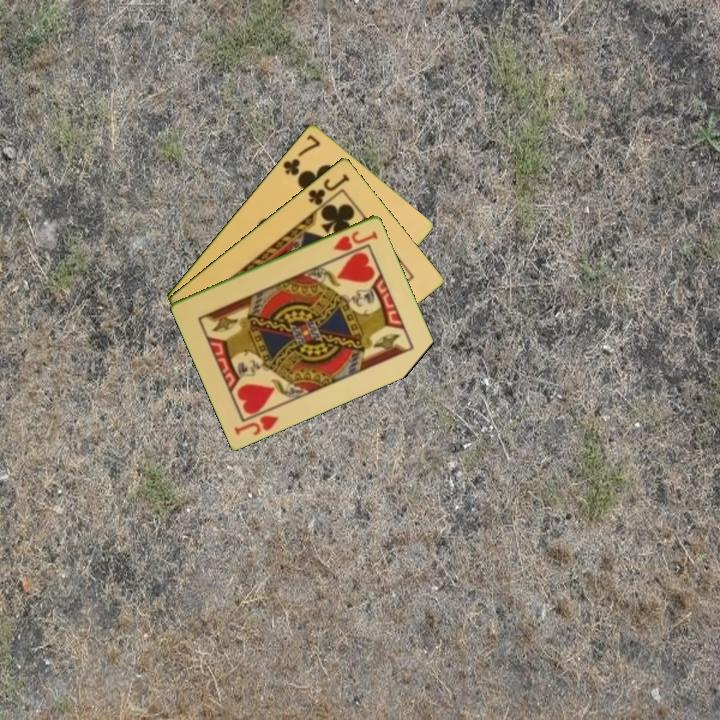7c: (279, 131, 323, 178)
Jc: (304, 169, 352, 208)
Jh: (330, 227, 381, 254), (231, 411, 282, 438)
